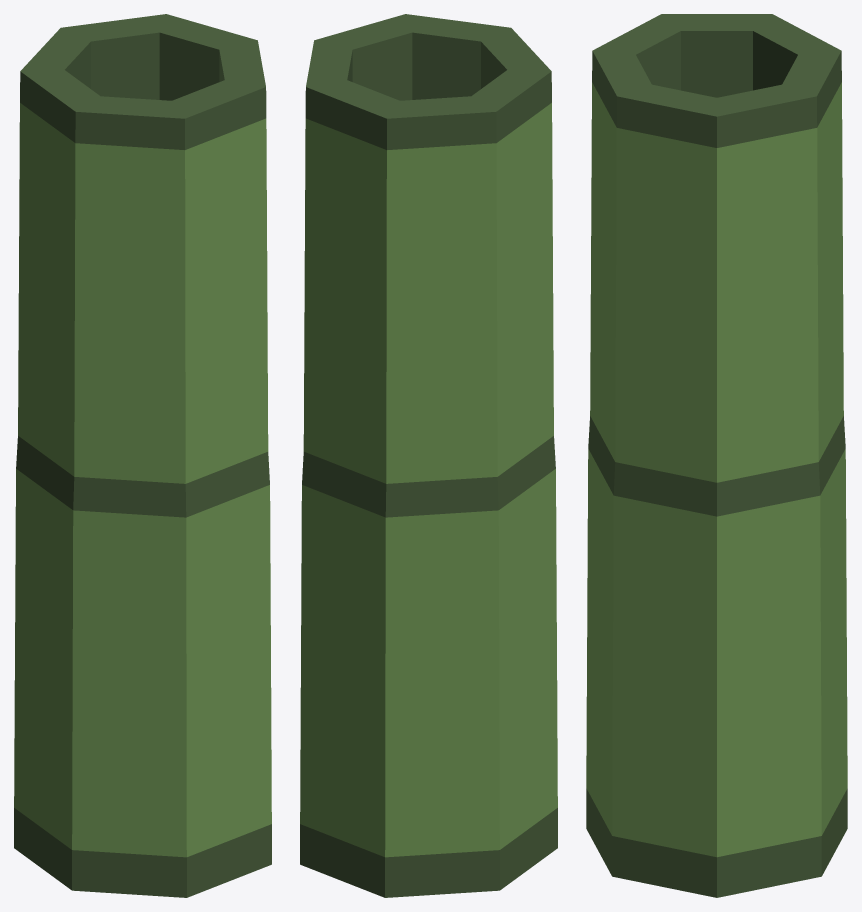
Rendered from bamboo_crop.gltf.
3 renders of one model, left to right at view 1: azimuth 30°, elevation 25°; view 2: azimuth 150°, elevation 25°; view 3: azimuth 270°, elevation 25°, orthographic.
Visible parts, largest first — view 1: bamboo_crop; view 2: bamboo_crop; view 3: bamboo_crop.
Part boxes in pixels (left/top/right/bottom): bamboo_crop: left=14, top=14, right=271, bottom=897; bamboo_crop: left=300, top=14, right=557, bottom=897; bamboo_crop: left=586, top=14, right=847, bottom=897.
Bounding box in the file's own units: 0.0968 × 0.3264 × 0.0993.
1 material, 1 textured.
